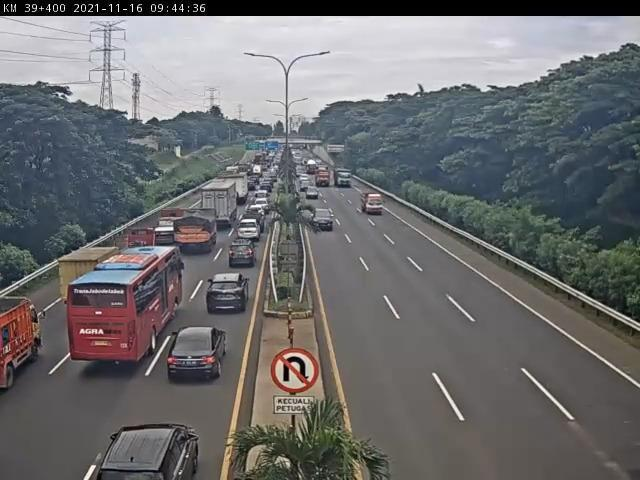bus: (68, 248, 183, 363)
car: (171, 329, 227, 382), (207, 276, 248, 314), (230, 241, 257, 267), (310, 209, 336, 233), (238, 220, 260, 243), (244, 215, 267, 232), (248, 204, 267, 219)
truck: (58, 247, 122, 300), (200, 180, 239, 227), (177, 214, 218, 254), (154, 211, 189, 248), (118, 230, 158, 261)
